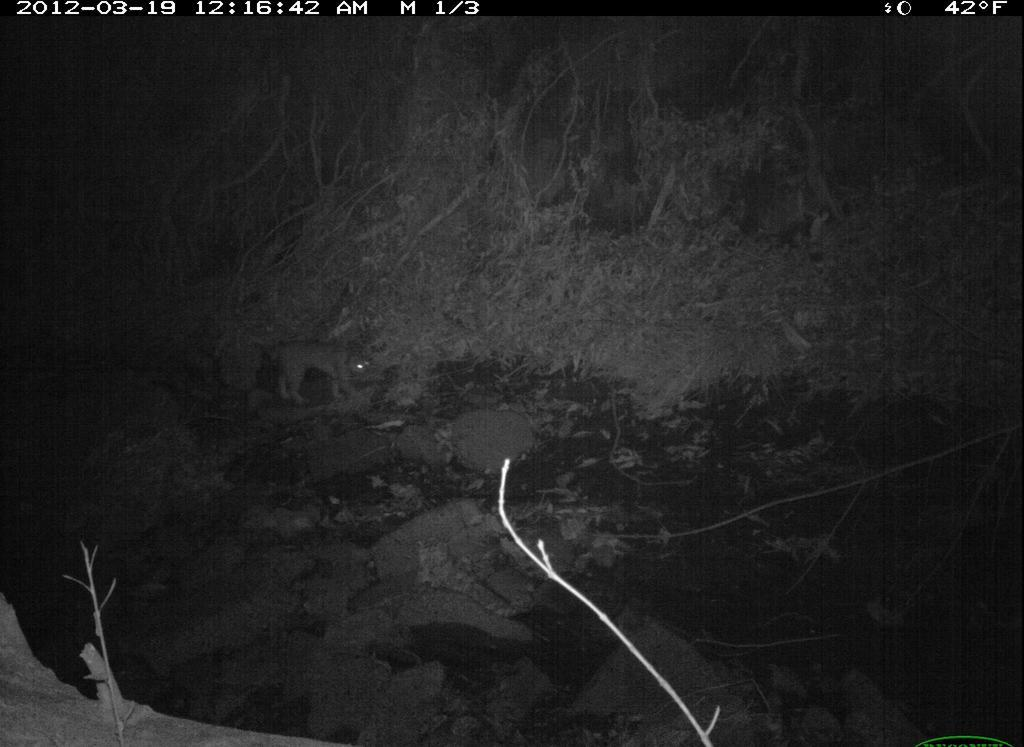bobcat: (257, 329, 383, 410)
